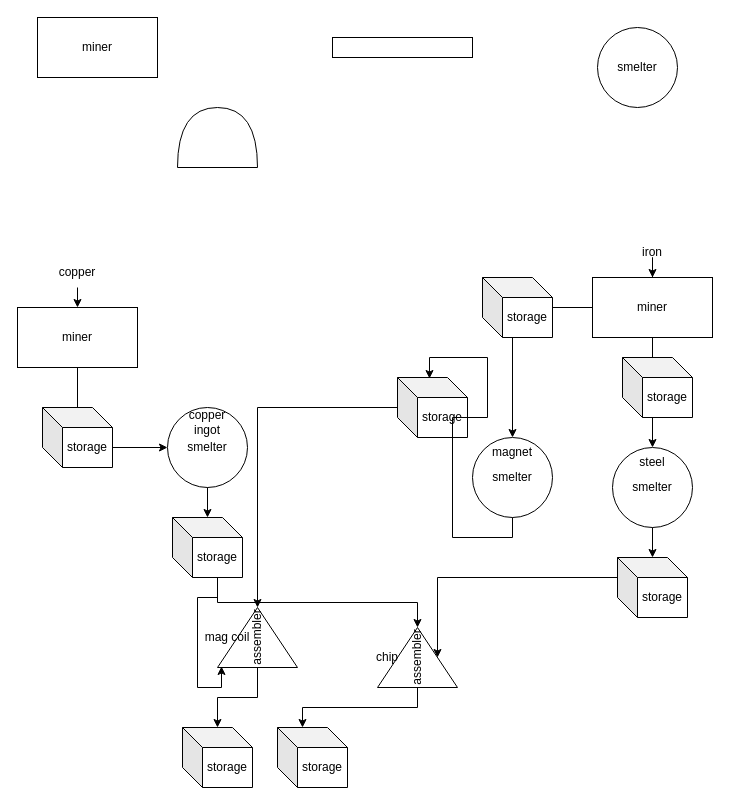
The diagram is 730 pixels wide and 805 high, and some of its shapes have lost their labels. The centre of each missing label's shape, as x and y in pixels:
"matrix" goes at pixel 217 137.
"sorter" goes at pixel 402 47.
